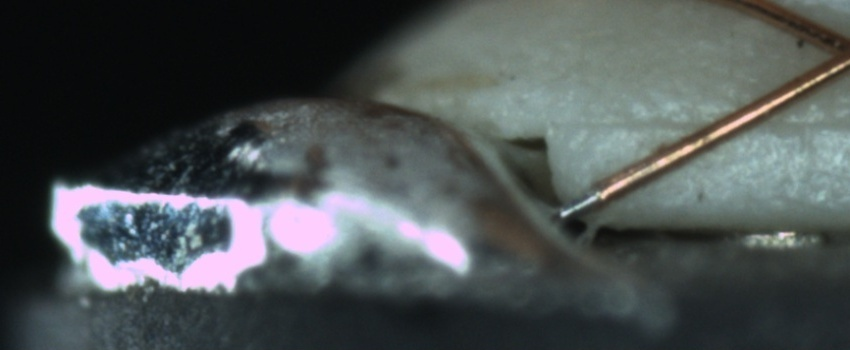CL: (799, 11, 850, 87)
DL: (568, 89, 846, 157)
TS: (559, 189, 601, 219)
